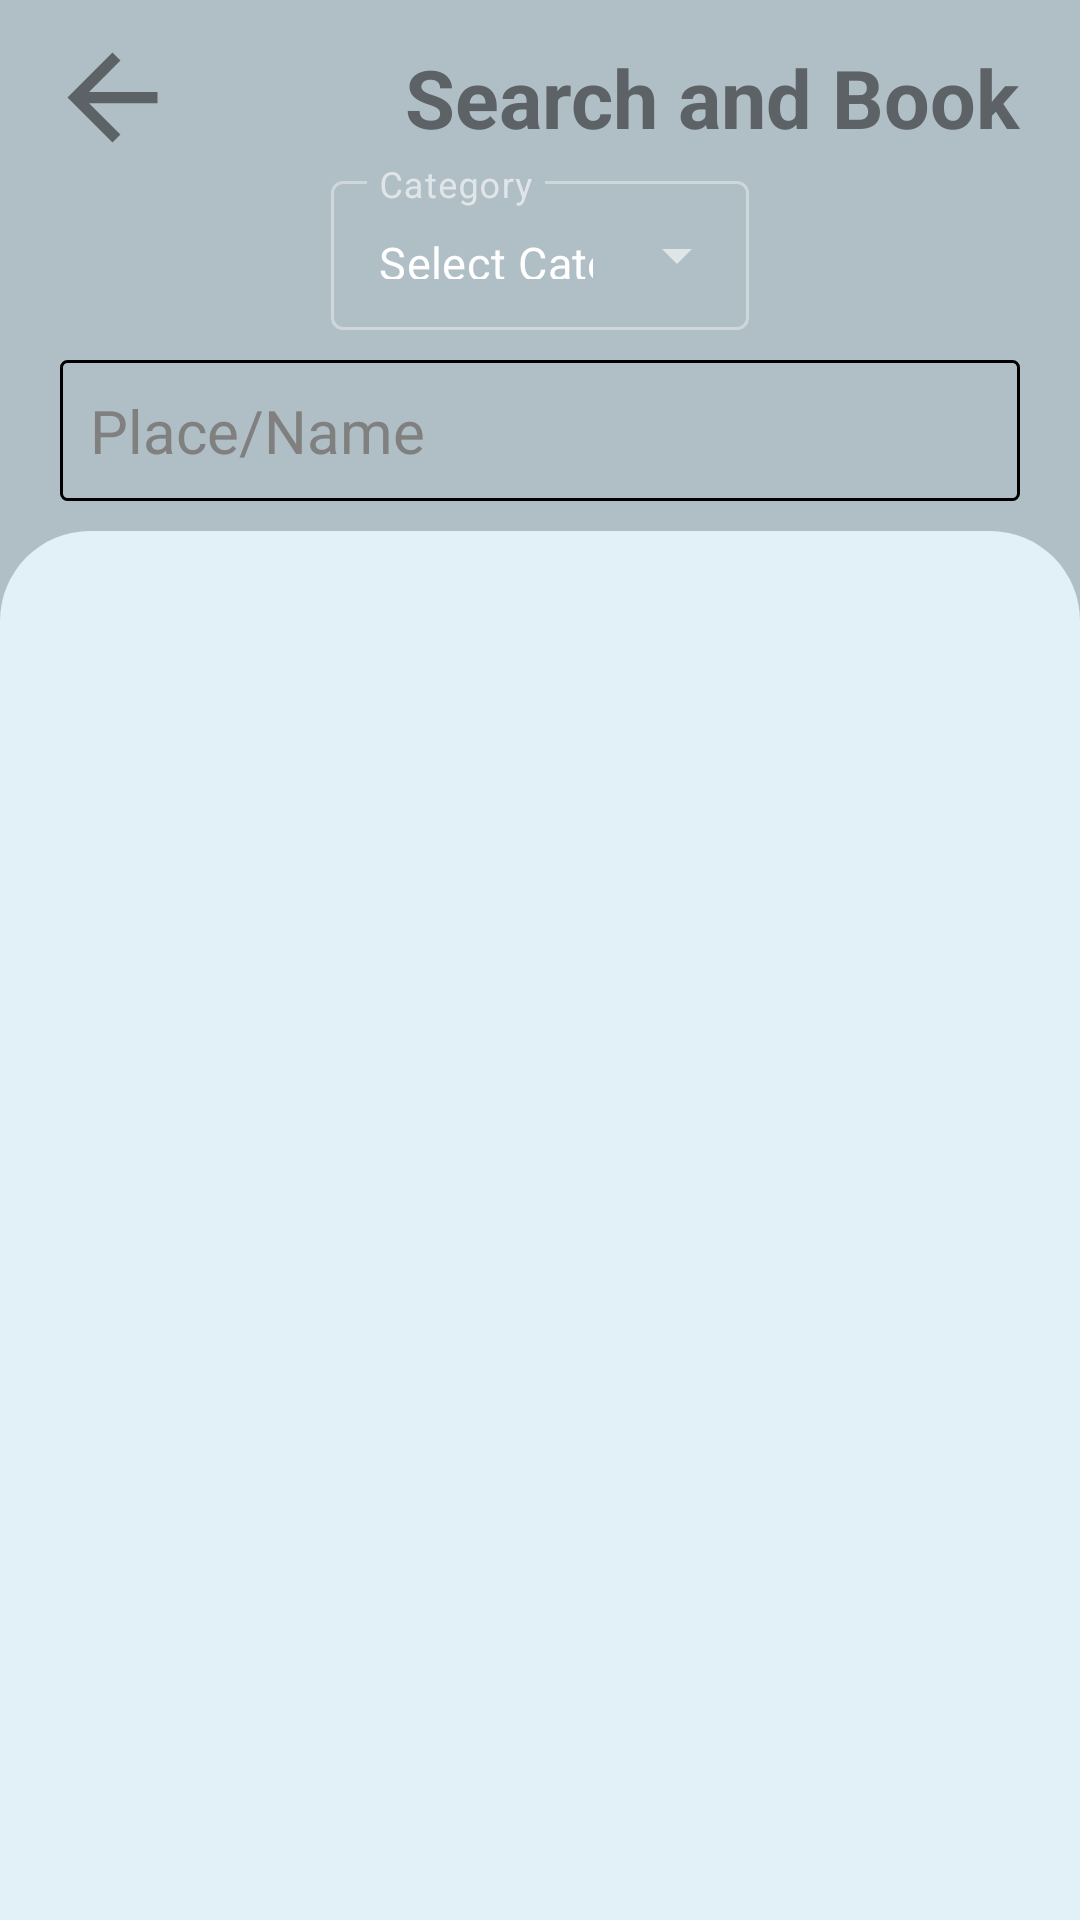

Screen size 1080 × 1920. Icon name, then its center in pixels as (x=x, y=y):
back: (x=113, y=97)
